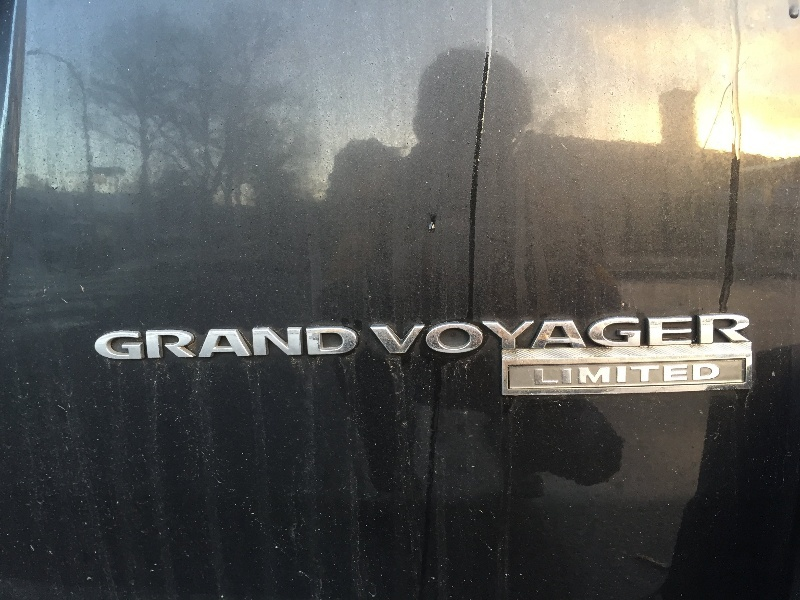text: (737, 311, 753, 359), (369, 311, 384, 359), (385, 311, 400, 359), (401, 311, 416, 359), (417, 311, 432, 359), (433, 311, 448, 359), (449, 311, 464, 359), (465, 311, 480, 359), (481, 311, 496, 359), (497, 311, 512, 359), (513, 311, 528, 359), (529, 311, 544, 359), (545, 311, 560, 359), (561, 311, 576, 359), (577, 311, 592, 359), (593, 311, 608, 359), (609, 311, 624, 359), (625, 311, 640, 359), (641, 311, 656, 359), (657, 311, 672, 359), (673, 311, 688, 359), (689, 311, 704, 359), (705, 311, 720, 359), (721, 311, 736, 359), (97, 321, 112, 365), (113, 321, 128, 365), (129, 321, 144, 365), (145, 321, 160, 365), (161, 321, 176, 365), (177, 321, 192, 365), (193, 321, 208, 365), (209, 321, 224, 365), (225, 321, 240, 365), (241, 321, 256, 365), (257, 321, 272, 365), (273, 321, 288, 365), (289, 321, 304, 365), (305, 321, 320, 365), (321, 321, 336, 365), (337, 321, 352, 365), (545, 360, 560, 388), (561, 360, 576, 388), (577, 360, 592, 388), (593, 360, 608, 388), (609, 360, 624, 388), (625, 360, 640, 388), (641, 360, 656, 388), (657, 360, 672, 388), (673, 360, 688, 388), (689, 360, 704, 388), (705, 360, 720, 388), (353, 321, 362, 365), (532, 360, 544, 388), (93, 321, 96, 365), (721, 360, 723, 388), (367, 311, 368, 359)
